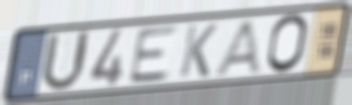4: (88, 25, 126, 90)
A: (211, 17, 264, 77)
E: (126, 24, 182, 86)
K: (177, 22, 220, 79)
O: (264, 12, 310, 76)
U: (38, 29, 93, 95)
